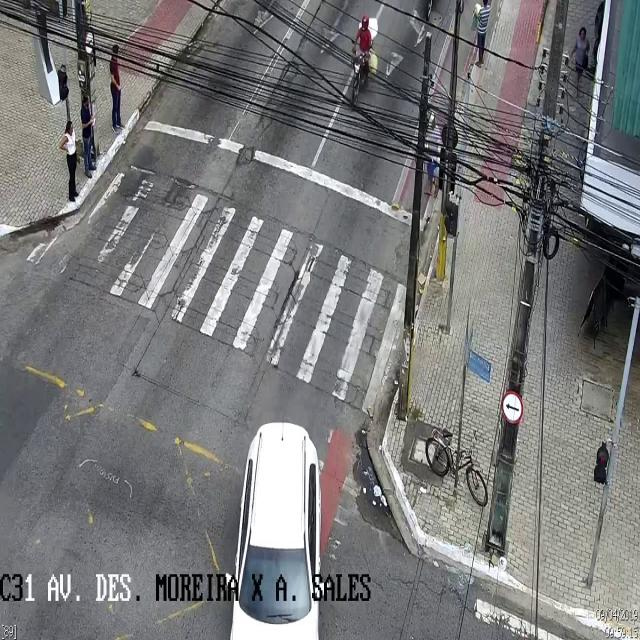Car: (228, 422, 322, 639)
Motorcycle: (350, 13, 380, 108)
